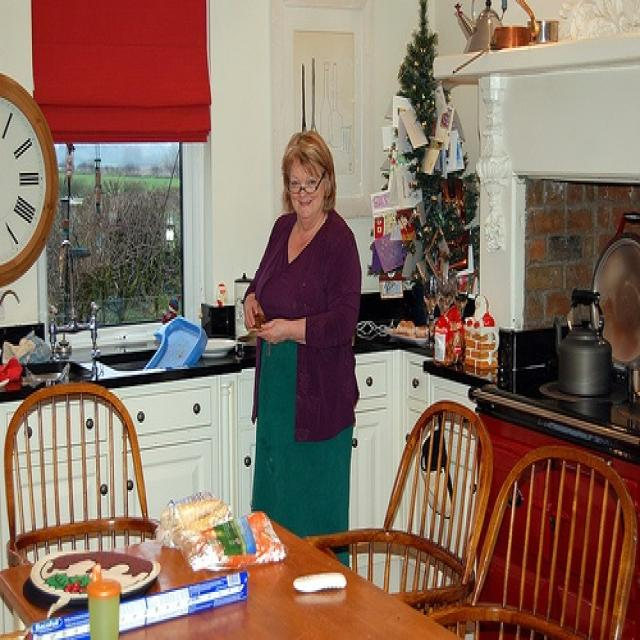chair: (432, 448, 636, 638), (306, 400, 490, 605), (4, 382, 159, 567)
diningtable: (4, 509, 467, 638)
